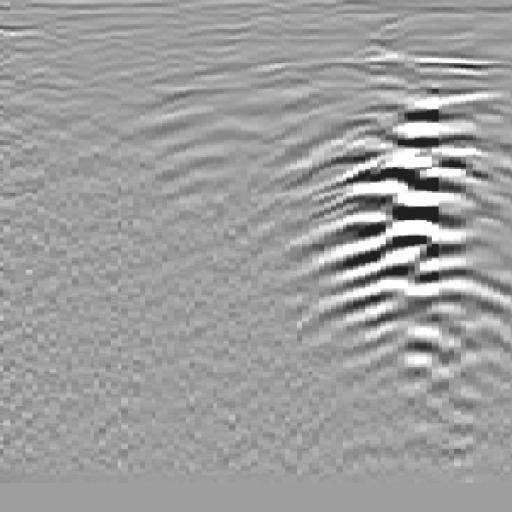metalic: (260, 64, 512, 431)
